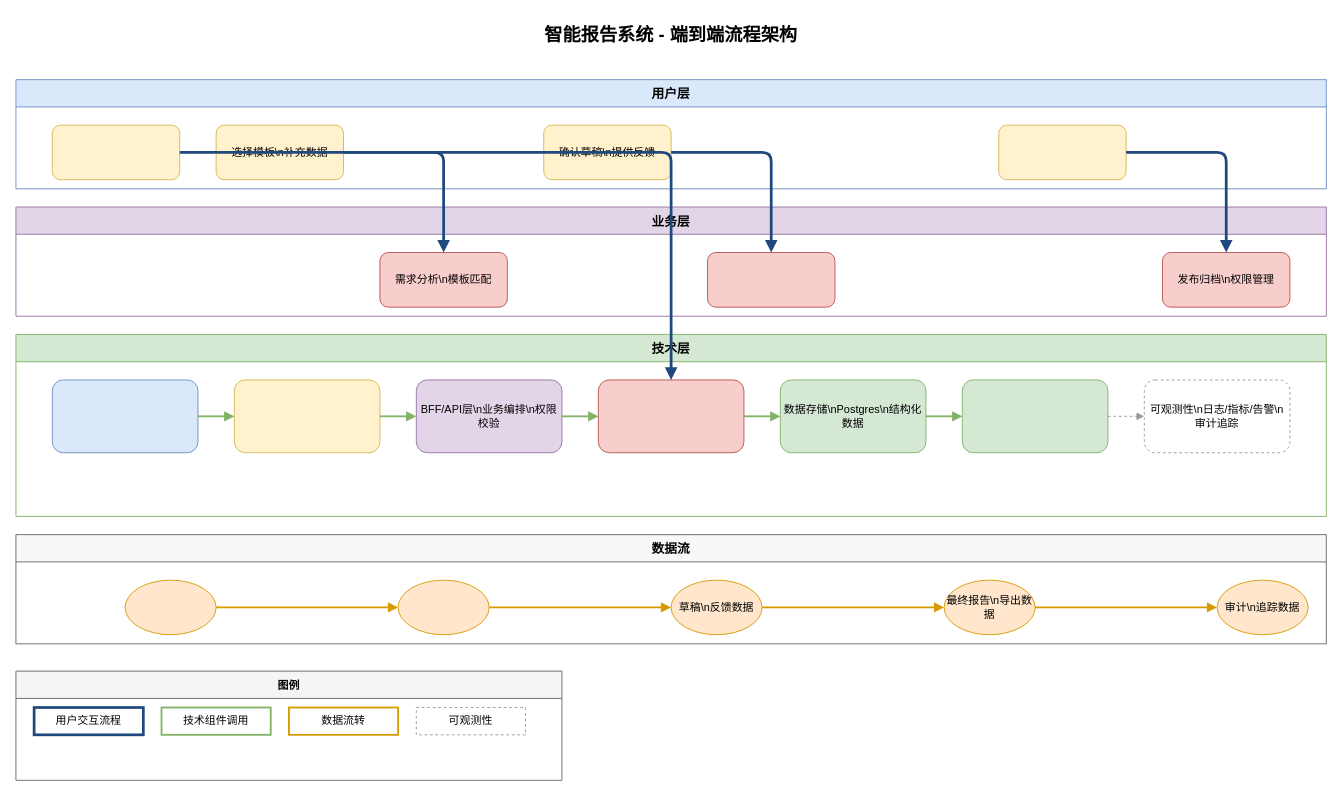
Image size: 1342x796. Some labels were removed from this diagram. Here are the shapes that lost their labels. From the top down, the centre of each, then its label:
At point 115,152: "提出报告需求\n(目标用户画像)".
At point 1062,152: "获取最终报告\n分享导出".
At point 771,279: "内容审核\n规范校验".
At point 124,416: "Web前端\nVite+React+Tailwind\n用户界面".
At point 306,416: "鉴权服务\nSupabase Auth\n身份验证".
At point 670,416: "AI推理引擎\n模板渲染\n异步任务队列".
At point 1034,416: "对象存储\n报告/附件/PDF\n导出服务".
At point 170,607: "用户输入\n需求数据".
At point 443,607: "AI分析\n结果数据".
